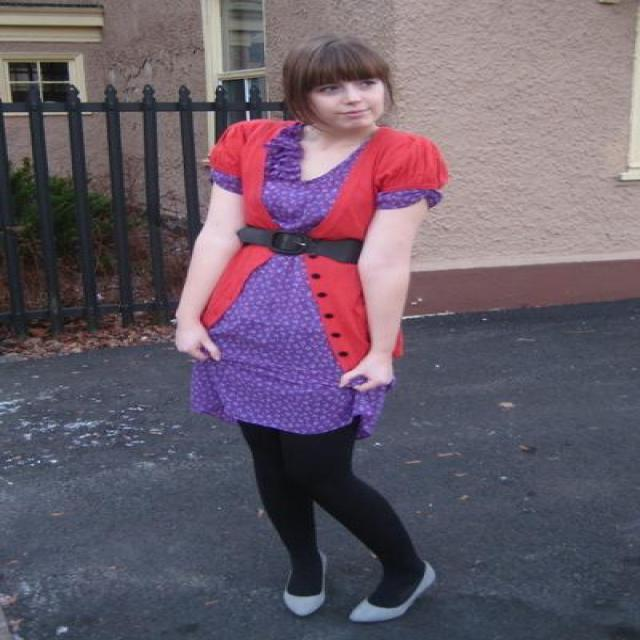dress: (189, 121, 440, 434)
jacket: (198, 115, 448, 370)
shoe: (283, 562, 435, 620)
